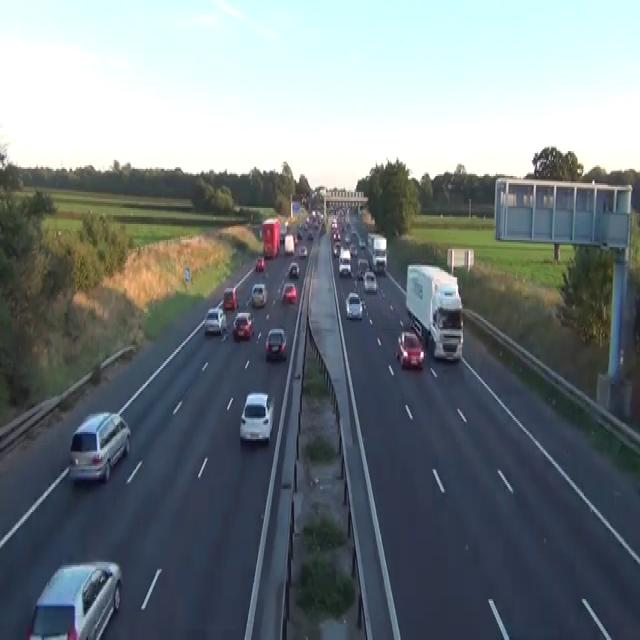Car: (23, 560, 122, 638), (68, 411, 130, 484), (429, 300, 463, 361), (239, 391, 274, 443), (396, 330, 424, 370), (265, 327, 286, 359), (231, 311, 253, 340), (204, 308, 226, 334), (345, 292, 363, 320), (251, 282, 267, 308), (222, 286, 237, 310), (338, 249, 351, 275), (363, 270, 378, 292), (281, 283, 297, 302), (357, 258, 369, 279), (288, 262, 299, 278), (339, 247, 351, 261), (255, 256, 264, 272), (332, 240, 340, 256), (349, 242, 357, 256), (358, 236, 366, 249), (332, 229, 340, 242), (350, 230, 358, 243), (298, 245, 307, 256), (216, 299, 224, 311), (279, 228, 285, 242), (300, 192, 307, 204), (331, 217, 337, 229), (344, 233, 350, 243), (328, 202, 334, 212), (307, 231, 313, 240), (296, 230, 302, 238), (294, 233, 298, 245), (259, 226, 262, 238)
Truck: (405, 263, 463, 361), (366, 231, 387, 274), (262, 217, 280, 258)
